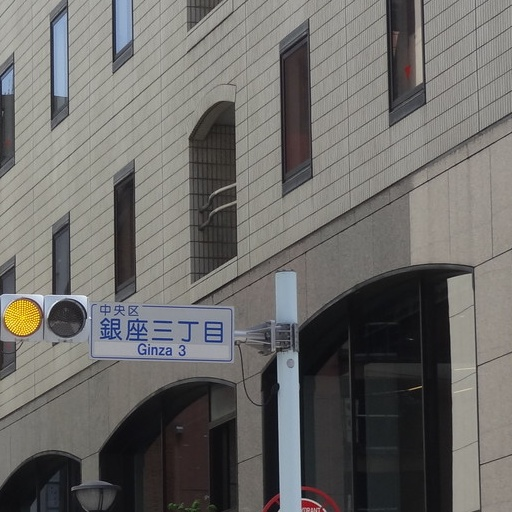Traffic_Signal_Yellow: (1, 280, 91, 349)
